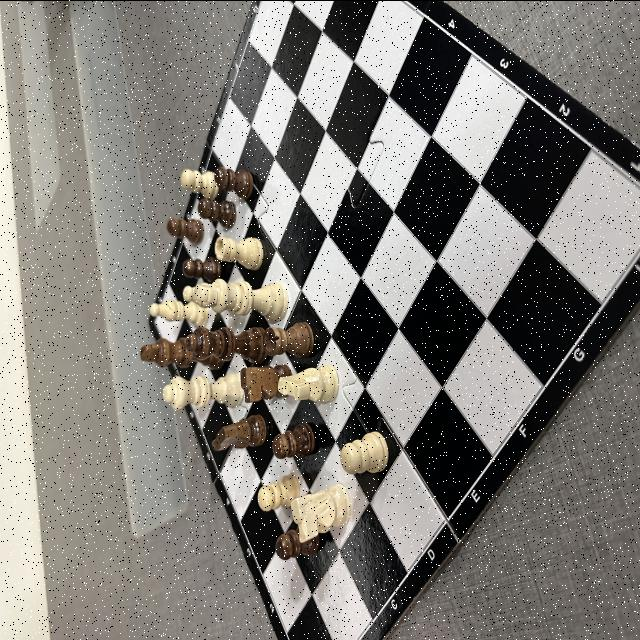Black-King: (140, 336, 223, 370)
Black-Knight: (240, 363, 292, 401), (212, 414, 266, 450)
Black-Pawn: (272, 421, 316, 458), (276, 524, 320, 560), (215, 166, 252, 200), (198, 198, 236, 228), (166, 216, 204, 242), (182, 256, 221, 281)
Black-Queen: (186, 326, 266, 363)
Black-Rook: (262, 320, 314, 358)
White-Bishop: (150, 296, 208, 326), (182, 281, 210, 307)
White-King: (198, 276, 288, 322)
White-Knight: (290, 481, 350, 540), (278, 365, 339, 403)
White-Pawn: (339, 430, 389, 474), (257, 471, 299, 510), (181, 168, 219, 198)
White-Queen: (163, 372, 244, 408)
White-Rook: (214, 236, 264, 270)
